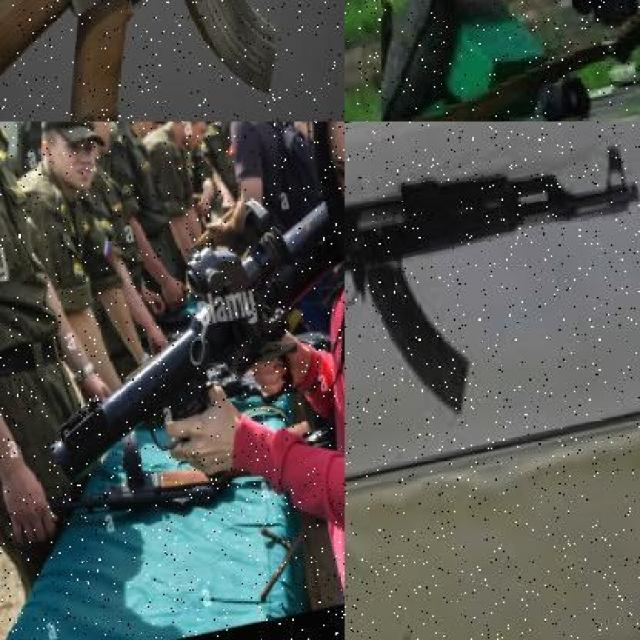weapon: (342, 139, 640, 436), (351, 137, 640, 426), (0, 0, 280, 111)
